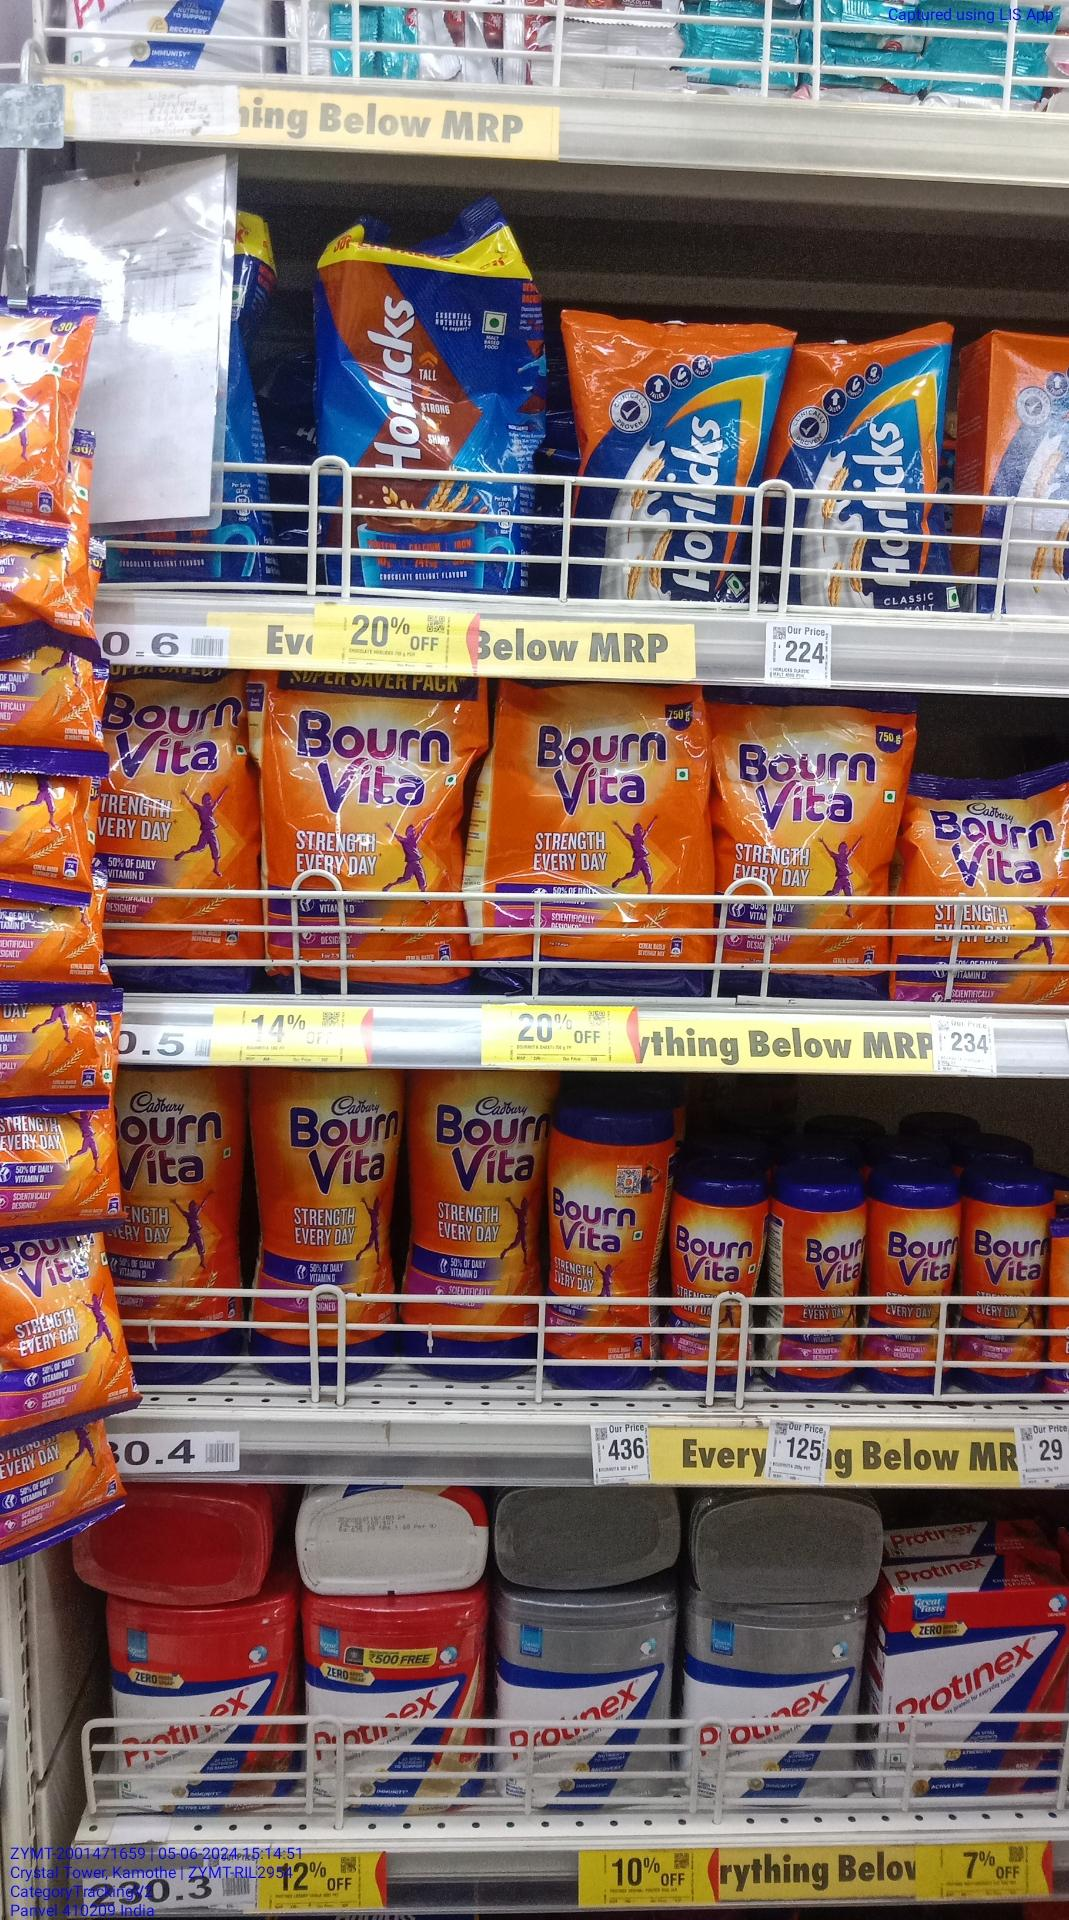BOURN_VITA_200_G_JAR: (671, 1176, 764, 1399), (874, 1179, 964, 1405), (782, 1176, 866, 1399), (969, 1180, 1052, 1404)
PROTINEX_CHOCOLATE_400_G_JAR: (113, 1602, 291, 1819)
PROTINEX_ORIGINAL_400_G_JAR: (500, 1588, 678, 1816), (686, 1608, 862, 1813)
PROTINEX_VANILLA_400_G_JAR: (305, 1596, 488, 1819)
